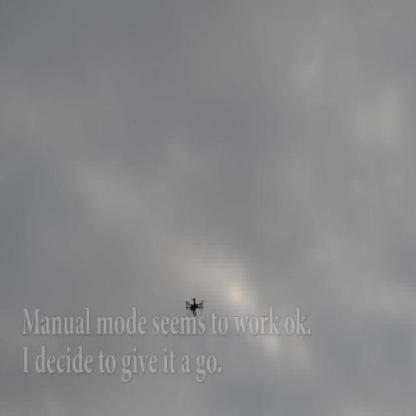drone: (186, 294, 206, 317)
